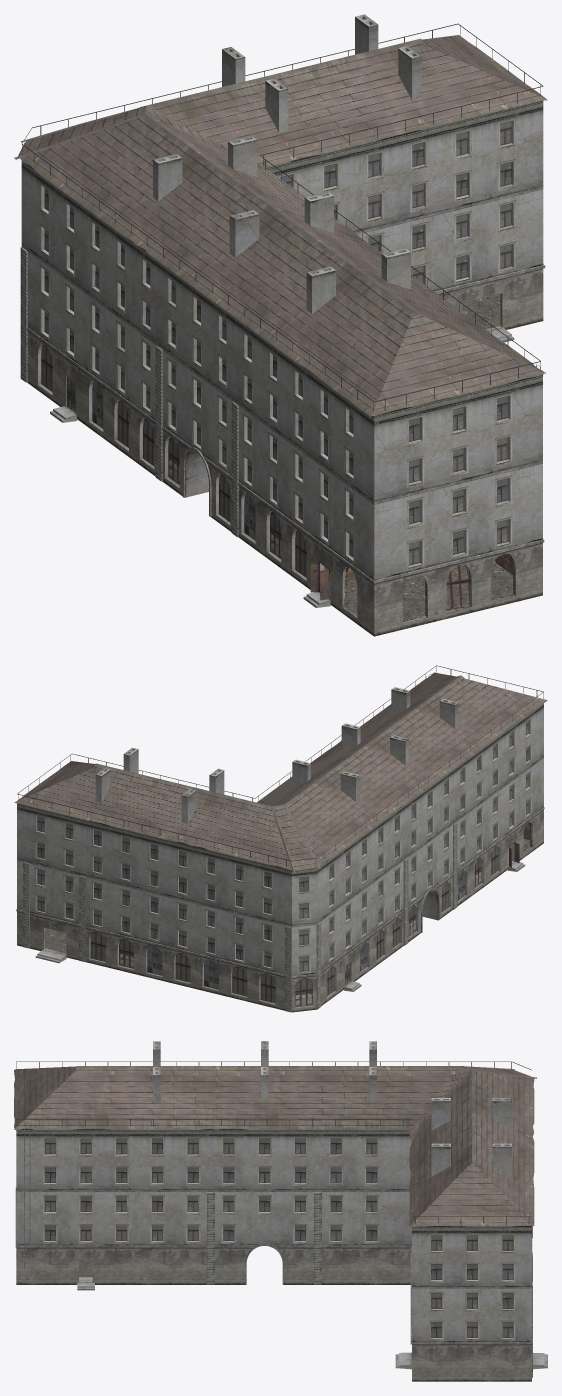
The model's file is Building_City_03_LOD2.FBX.
3 renders of one model, top to bottom at view 1: azimuth 30°, elevation 25°; view 2: azimuth 150°, elevation 25°; view 3: azimuth 270°, elevation 25°, orthographic. The views are drawn at different scales.
Parts seen in each view (by area): view 1: Building_City_03_LOD2, Building_City_03_Roof_LOD2, Building_City_03_Frame_LOD2, Building_City_03_Tube_LOD2; view 2: Building_City_03_LOD2, Building_City_03_Roof_LOD2, Building_City_03_Frame_LOD2, Building_City_03_Tube_LOD2; view 3: Building_City_03_LOD2, Building_City_03_Roof_LOD2, Building_City_03_Frame_LOD2, Building_City_03_Tube_LOD2, Stairs_Metal_LOD2.
Part boxes in pixels (left/top/right/bottom): Building_City_03_LOD2: left=20, top=101, right=545, bottom=636; Building_City_03_Roof_LOD2: left=14, top=23, right=547, bottom=416; Building_City_03_Frame_LOD2: left=39, top=118, right=515, bottom=570; Building_City_03_Tube_LOD2: left=153, top=14, right=421, bottom=313; Building_City_03_LOD2: left=16, top=703, right=544, bottom=1012; Building_City_03_Roof_LOD2: left=14, top=665, right=547, bottom=873; Building_City_03_Frame_LOD2: left=34, top=717, right=531, bottom=974; Building_City_03_Tube_LOD2: left=95, top=687, right=458, bottom=823; Building_City_03_LOD2: left=15, top=1128, right=547, bottom=1381; Building_City_03_Roof_LOD2: left=14, top=1061, right=536, bottom=1226; Building_City_03_Frame_LOD2: left=43, top=1137, right=515, bottom=1340; Building_City_03_Tube_LOD2: left=153, top=1041, right=511, bottom=1176; Stairs_Metal_LOD2: left=24, top=1126, right=30, bottom=1269.
Bounding box in the file's own units: 3703 × 5201 × 2141.
Materials: 5 (5 with a texture image).
